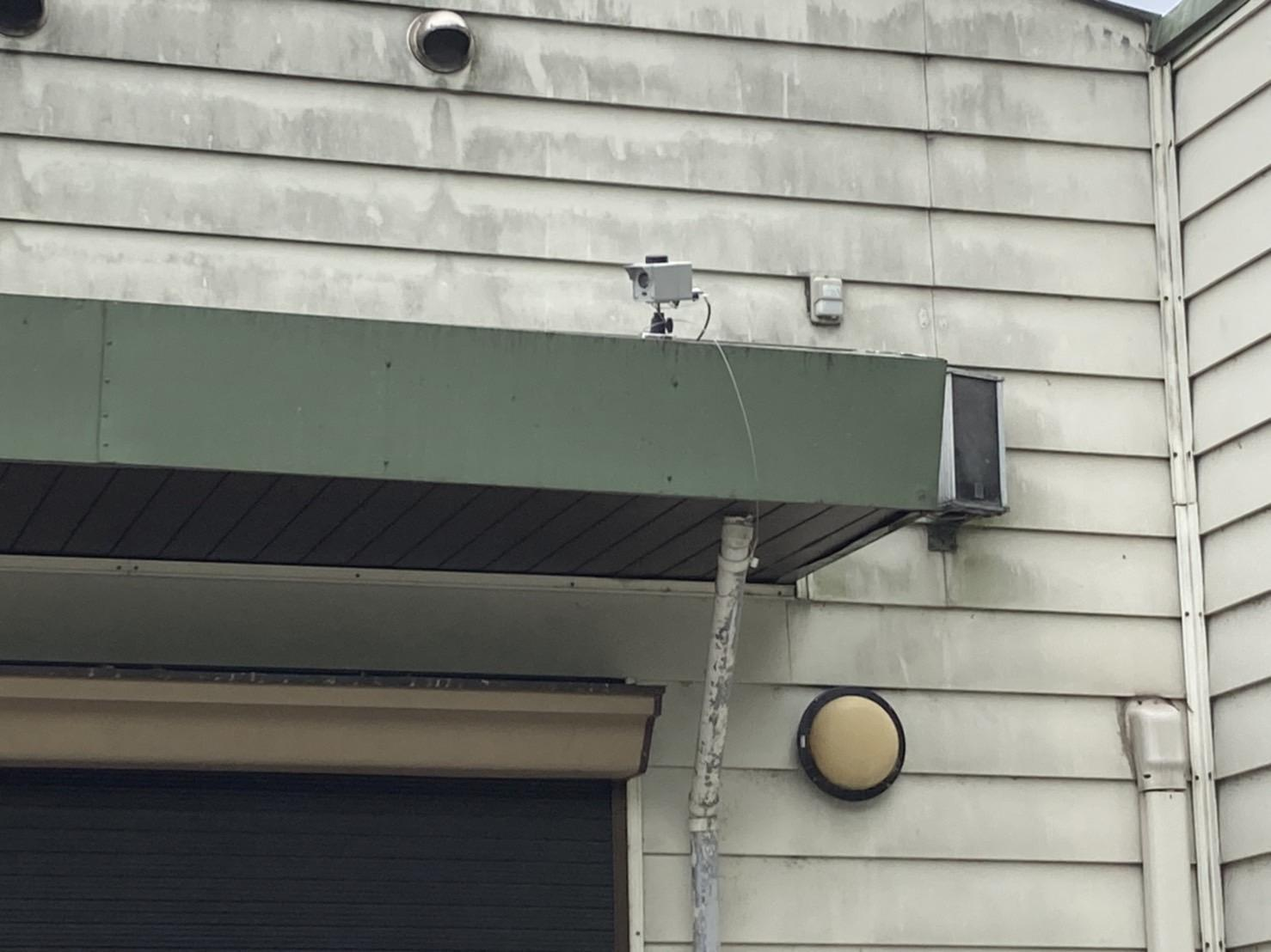tutu: (629, 247, 709, 309)
